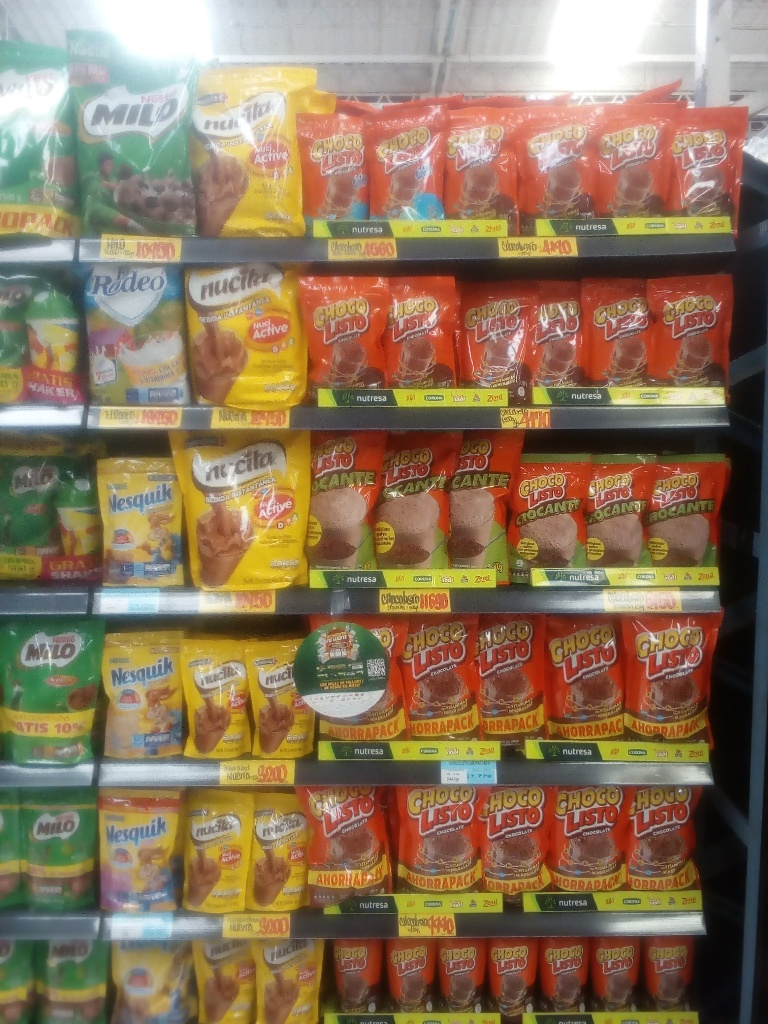COL0170102DYP50000: (449, 430, 522, 572)
COL0170103DYP44000: (618, 611, 714, 743)
COL0170104DYP20000: (367, 104, 452, 220)
COL0170203DYP50000: (66, 33, 188, 235)
COL0170306DYP20000: (98, 634, 186, 761)
